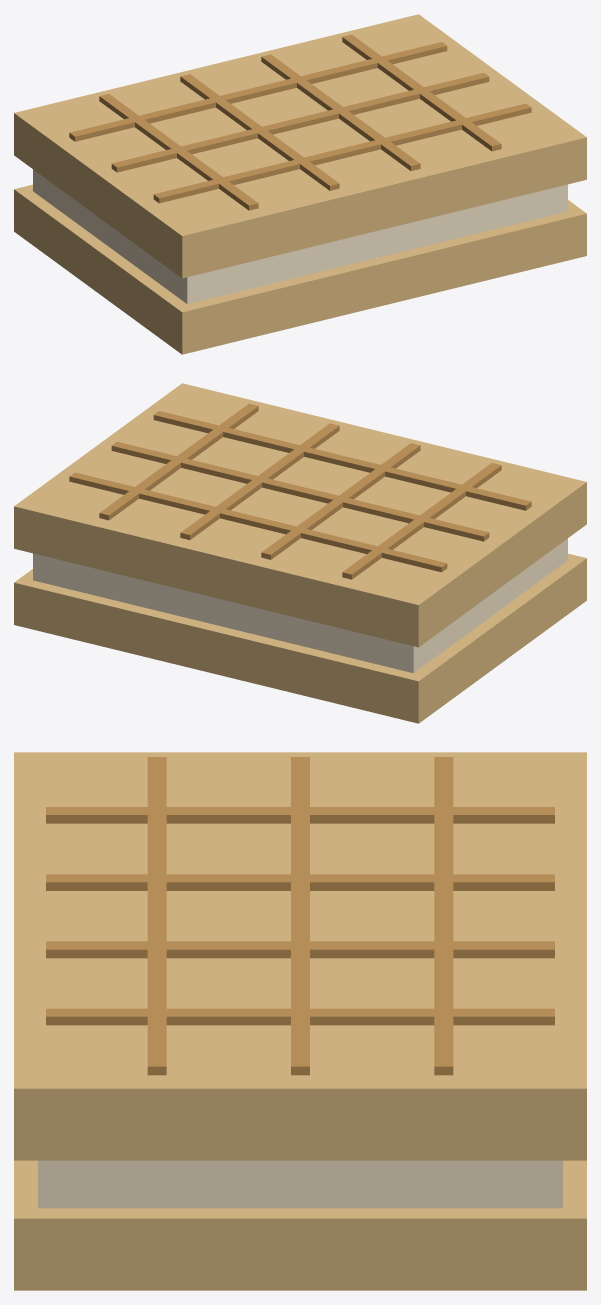
File: wafer.glb
3 renders of one model, top to bottom at view 1: azimuth 30°, elevation 25°; view 2: azimuth 150°, elevation 25°; view 3: azimuth 270°, elevation 25°, orthographic. The views are drawn at different scales.
Visible parts, largest first — view 1: wafer; view 2: wafer; view 3: wafer.
Part boxes in pixels (x1,y1,x2,y2): wafer: (14, 14, 586, 354); wafer: (14, 383, 586, 723); wafer: (14, 752, 586, 1290).
Bounding box in the file's own units: 0.5 × 0.146 × 0.36.
Materials: 1 (1 with a texture image).
